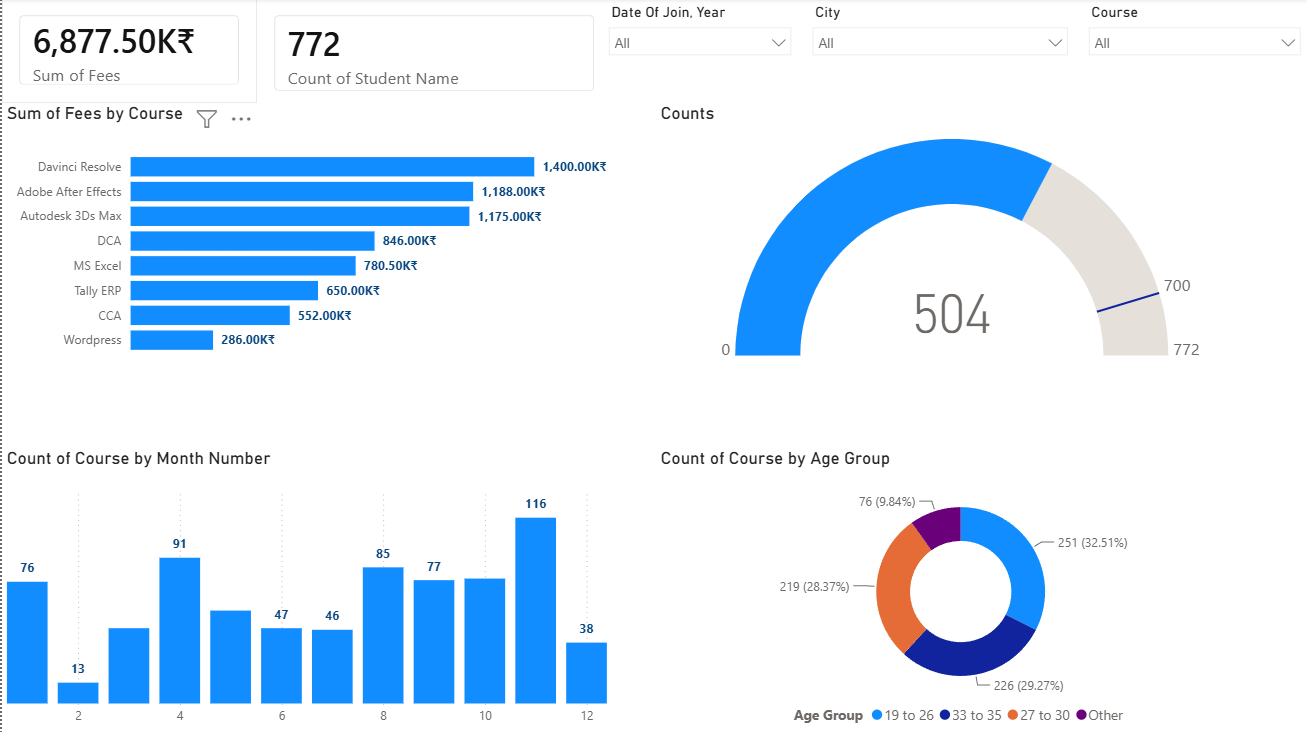

The dashboard page shown, as its layout file describes it:
{"tool":"powerbi","page":{"name":"ABC ","canvas":[1280,720],"ordinal":0},"visuals":[{"type":"clusteredColumnChart","fields":{"Y":["CountNonNull(Student Course Details.Course)"],"Category":["Student Course Details.Date Of Join Hierarchy.Year","Student Course Details.Date Of Join Hierarchy.Month Number","Student Course Details.Date Of Join Hierarchy.Day","Student Course Details.Date Of Join Hierarchy.Month","Student Course Details.Date Of Join Hierarchy.Quarter"]},"box":[0,440.5,596.9,279.9],"z":0},{"type":"donutChart","fields":{"Y":["CountNonNull(Student Course Details.Course)"],"Category":["Student Course Details.Age Group"]},"box":[639.5,440.5,597,280],"z":1000},{"type":"clusteredBarChart","fields":{"Category":["Student Course Details.Course"],"Y":["Sum(Student Course Details.Fees)"]},"box":[0,102.9,596.9,256.6],"z":2000},{"type":"cardVisual","fields":{"Data":["Sum(Student Course Details.Fees)"]},"box":[0,0,249.7,102.9],"z":3000},{"type":"cardVisual","fields":{"Data":["CountNonNull(Student Course Details.Student Name)"]},"box":[249.7,0,347.2,108.4],"z":4000},{"type":"gauge","fields":{"Y":["Personal Details.Counts"]},"box":[639,103,597,257],"z":5000},{"type":"slicer","fields":{"Values":["Student Course Details.Date Of Join Hierarchy.Date Of Join","Student Course Details.Date Of Join Hierarchy.Year"]},"box":[583.2,0,199,65.9],"z":6000},{"type":"slicer","fields":{"Values":["Personal Details.City"]},"box":[782.2,0,270.3,71.4],"z":7000},{"type":"slicer","fields":{"Values":["Student Course Details.Course"]},"box":[1052.5,0,227.8,71.4],"z":8000}]}

Visuals, with their boxes in screenshot pixels (x1, y1, x2, y2), scaled from the page's 1280x720 canvas onto the 1307x732 screenshot:
clusteredColumnChart - CountNonNull(Student Course Details.Course) x Student Course Details.Date Of Join Hierarchy.Year: 0,448,609,731
donutChart - CountNonNull(Student Course Details.Course) x Student Course Details.Age Group: 653,448,1263,731
clusteredBarChart - Student Course Details.Course x Sum(Student Course Details.Fees): 0,105,609,365
cardVisual - Sum(Student Course Details.Fees): 0,0,255,105
cardVisual - CountNonNull(Student Course Details.Student Name): 255,0,609,110
gauge - Personal Details.Counts: 652,105,1262,366
slicer - Student Course Details.Date Of Join Hierarchy.Date Of Join x Student Course Details.Date Of Join Hierarchy.Year: 596,0,799,67
slicer - Personal Details.City: 799,0,1075,73
slicer - Student Course Details.Course: 1075,0,1306,73
